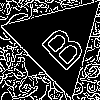B: (32, 16, 88, 73)
